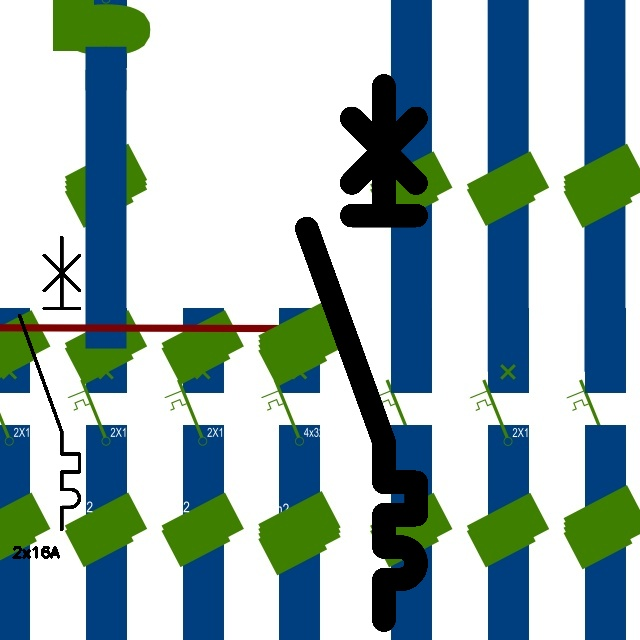interruptor_termomagnetico: (293, 72, 430, 634), (12, 230, 87, 537)
